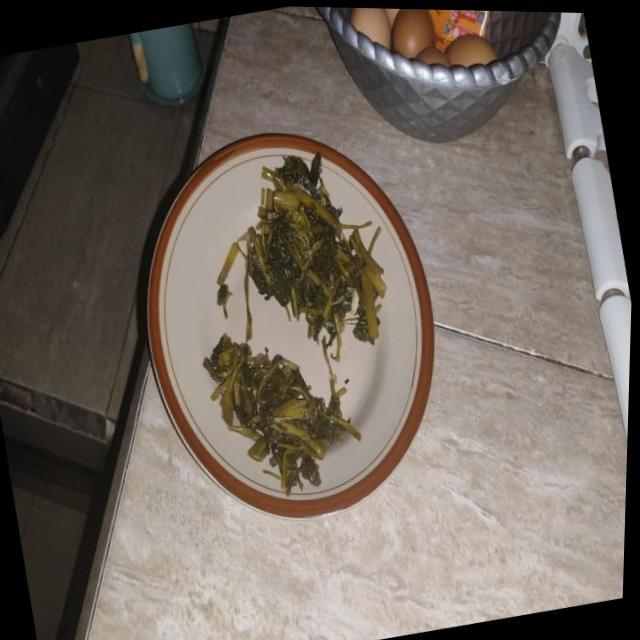tumis_kangkung: (244, 152, 386, 341), (204, 334, 342, 496)
